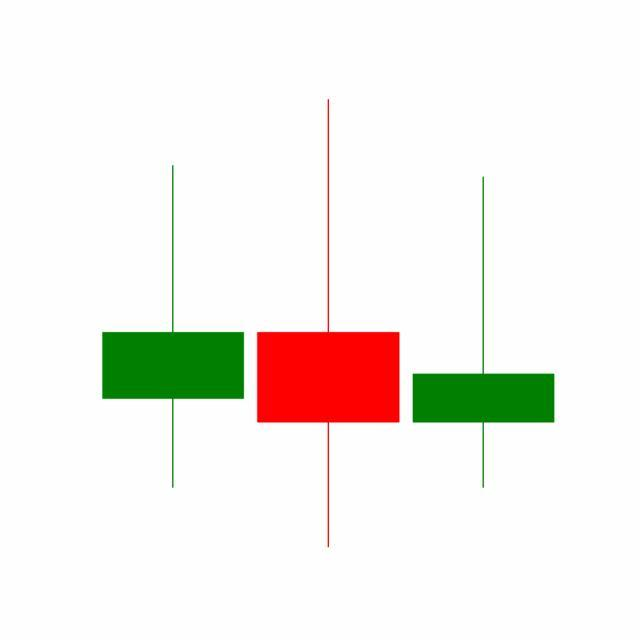Spinning Top: (406, 174, 562, 492)
